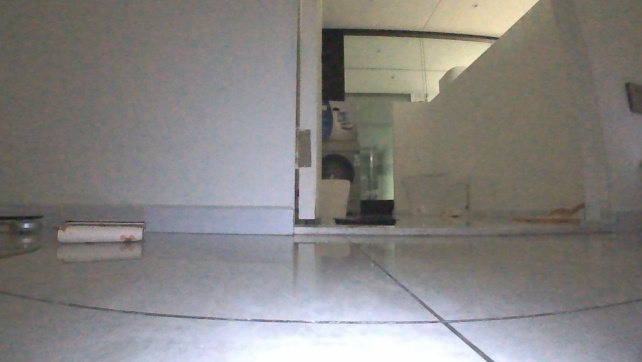glasses_box: (55, 216, 146, 245)
slipper: (510, 200, 586, 225)
toilet: (398, 169, 468, 217)
trash_can: (316, 176, 350, 219)
washing_machine: (322, 137, 362, 214)
